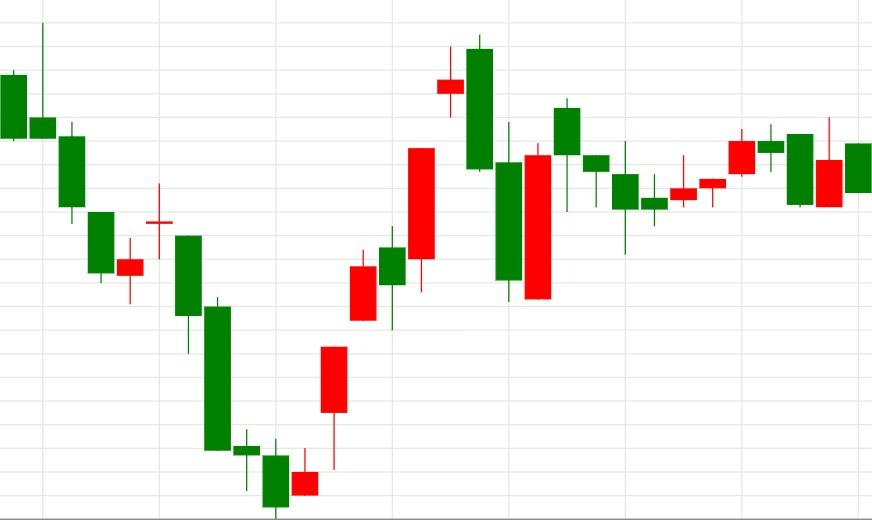bearish_engulfing_fall: (262, 34, 494, 519)
three_black_crows_fall: (495, 98, 639, 301)
